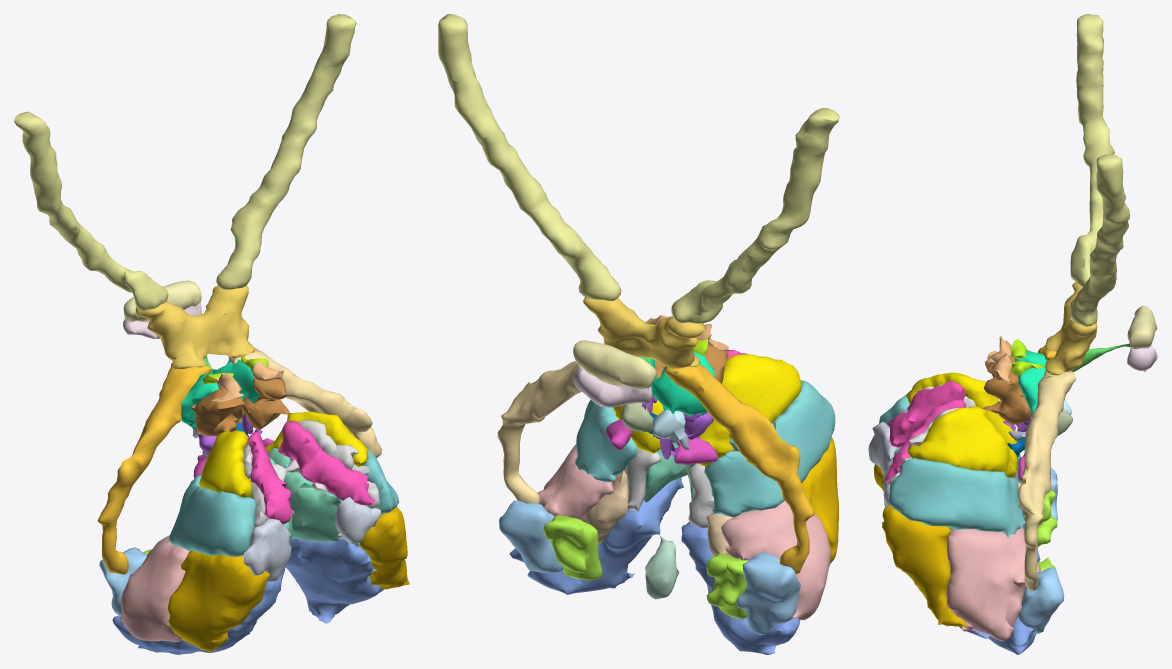
Rendered from diencephalon.glb.
3 renders of one model, left to right at view 1: azimuth 30°, elevation 25°; view 2: azimuth 150°, elevation 25°; view 3: azimuth 270°, elevation 25°, orthographic. The views are drawn at different scales.
Visible parts, largest first — view 1: spl-215, spl-519, spl-77, spl-85, spl-506, spl-78, spl-517, spl-525, spl-508, spl-216, spl-510, spl-518 (+16 smaller); view 2: spl-215, spl-77, spl-78, spl-517, spl-525, spl-506, spl-85, spl-515, spl-216, spl-505, spl-507, spl-516 (+19 smaller); view 3: spl-516, spl-524, spl-77, spl-216, spl-518, spl-514, spl-215, spl-85, spl-509, spl-504, spl-515, spl-387 (+8 smaller).
Part boxes in pixels (box(x1,y1,x2,y2)): spl-215: box(216, 14, 356, 289); spl-519: box(167, 551, 269, 651); spl-77: box(14, 111, 168, 311); spl-85: box(135, 285, 255, 369); spl-506: box(285, 538, 383, 623); spl-78: box(97, 363, 211, 574); spl-517: box(168, 475, 256, 556); spl-525: box(120, 535, 189, 641); spl-508: box(278, 421, 375, 505); spl-216: box(228, 348, 381, 457); spl-510: box(268, 447, 359, 547); spl-518: box(359, 506, 409, 589); spl-215: box(438, 14, 621, 300); spl-77: box(671, 108, 839, 323); spl-78: box(664, 365, 814, 573); spl-517: box(704, 380, 835, 517); spl-525: box(721, 501, 830, 620); spl-506: box(509, 477, 683, 594); spl-85: box(583, 297, 704, 368); spl-515: box(697, 354, 801, 466); spl-216: box(497, 356, 638, 503); spl-505: box(736, 552, 801, 635); spl-507: box(681, 521, 800, 654); spl-516: box(575, 399, 637, 482); spl-516: box(889, 458, 1025, 537); spl-524: box(946, 526, 1040, 641); spl-77: box(1070, 14, 1114, 286); spl-216: box(1018, 370, 1076, 590); spl-518: box(882, 505, 967, 626); spl-514: box(907, 406, 1017, 477); spl-215: box(1070, 154, 1129, 326); spl-85: box(1045, 281, 1097, 375); spl-509: box(888, 381, 965, 447); spl-504: box(1018, 567, 1064, 633); spl-515: box(906, 372, 1017, 443); spl-387: box(982, 371, 1032, 424).
Size of the model in its own units: 58.8 by 88.54 by 44.15.
